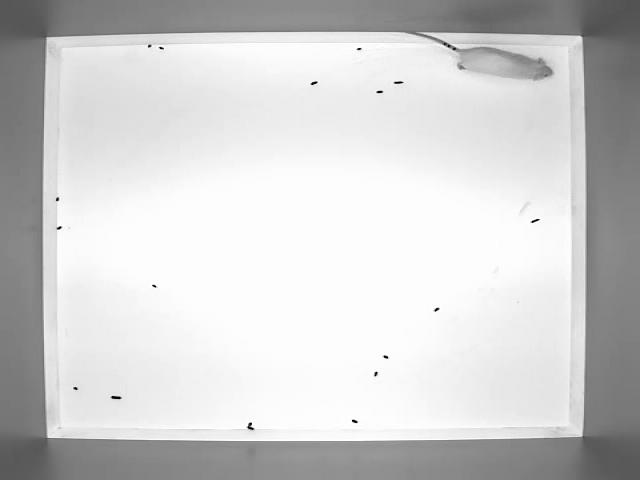Tikus: (395, 29, 556, 80)
